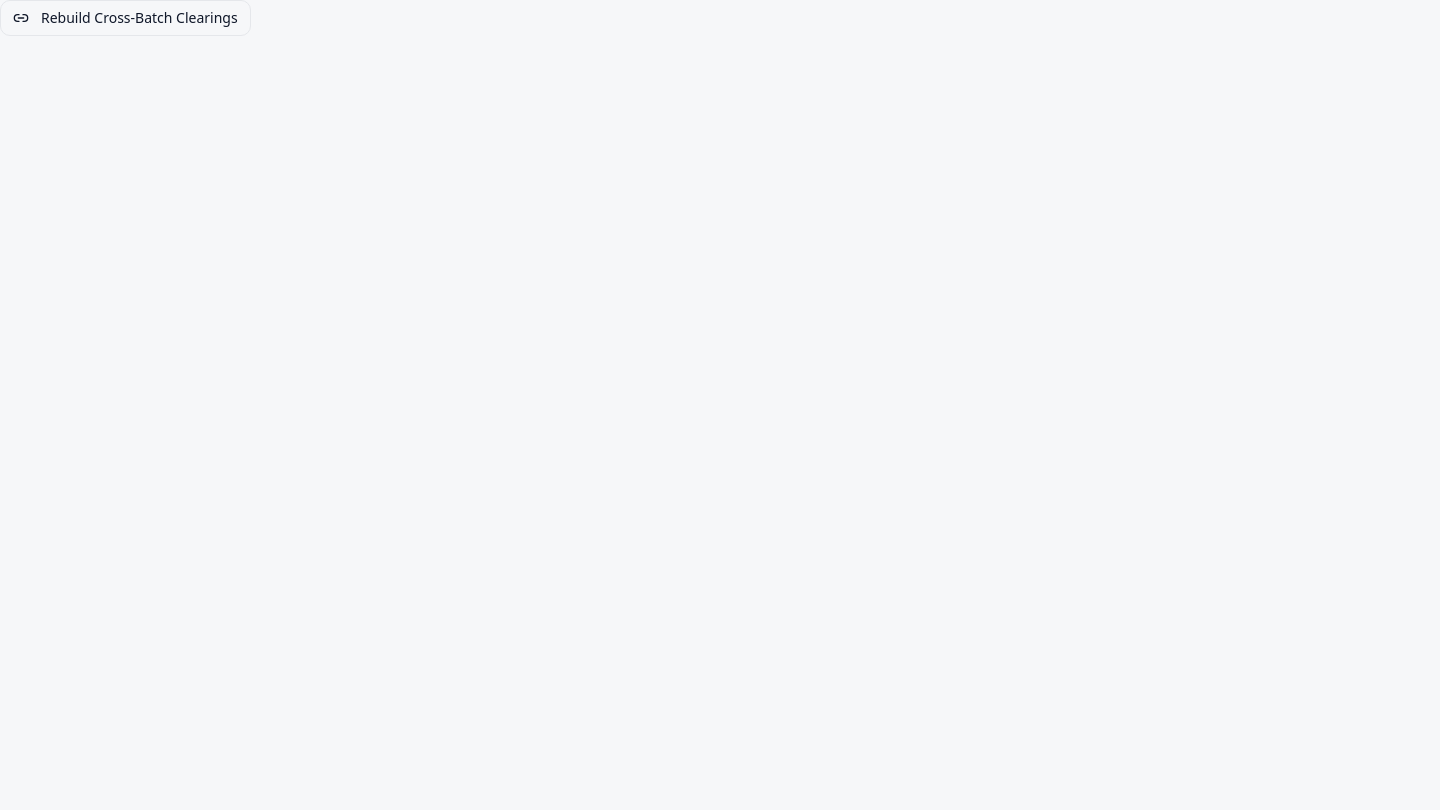
RebuildCrossBatchClearingsButton › opens AlertDialog on click
The width and height of the screenshot is (1440, 810).
What coordinates should you click on to do the following:
click the button "Rebuild Cross-Batch Clearings"
I would click on:
 (125, 18)
Its box is [0,0,251,36].
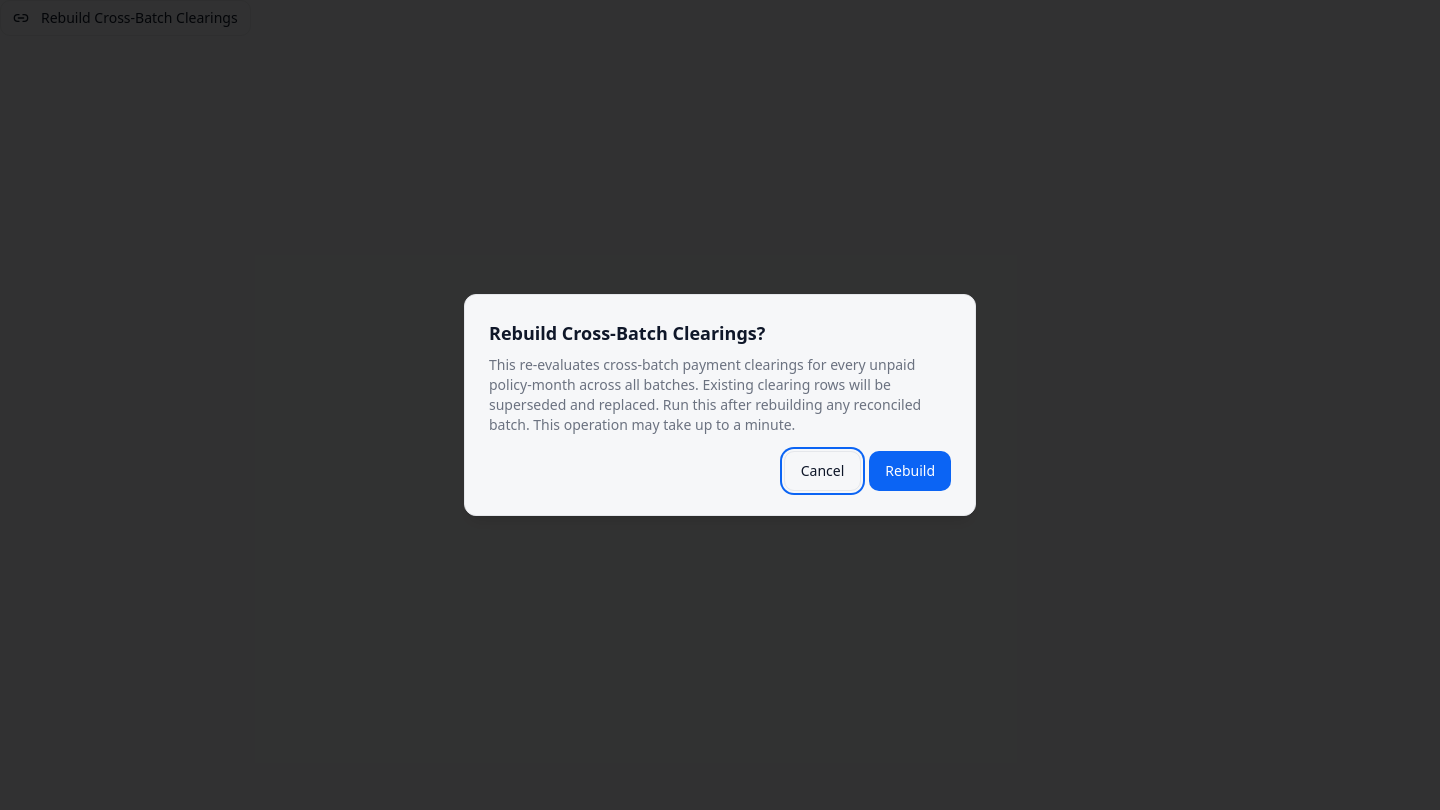
Expected: the heading "Rebuild Cross-Batch Clearings?" is shown, [489,321,765,345]
